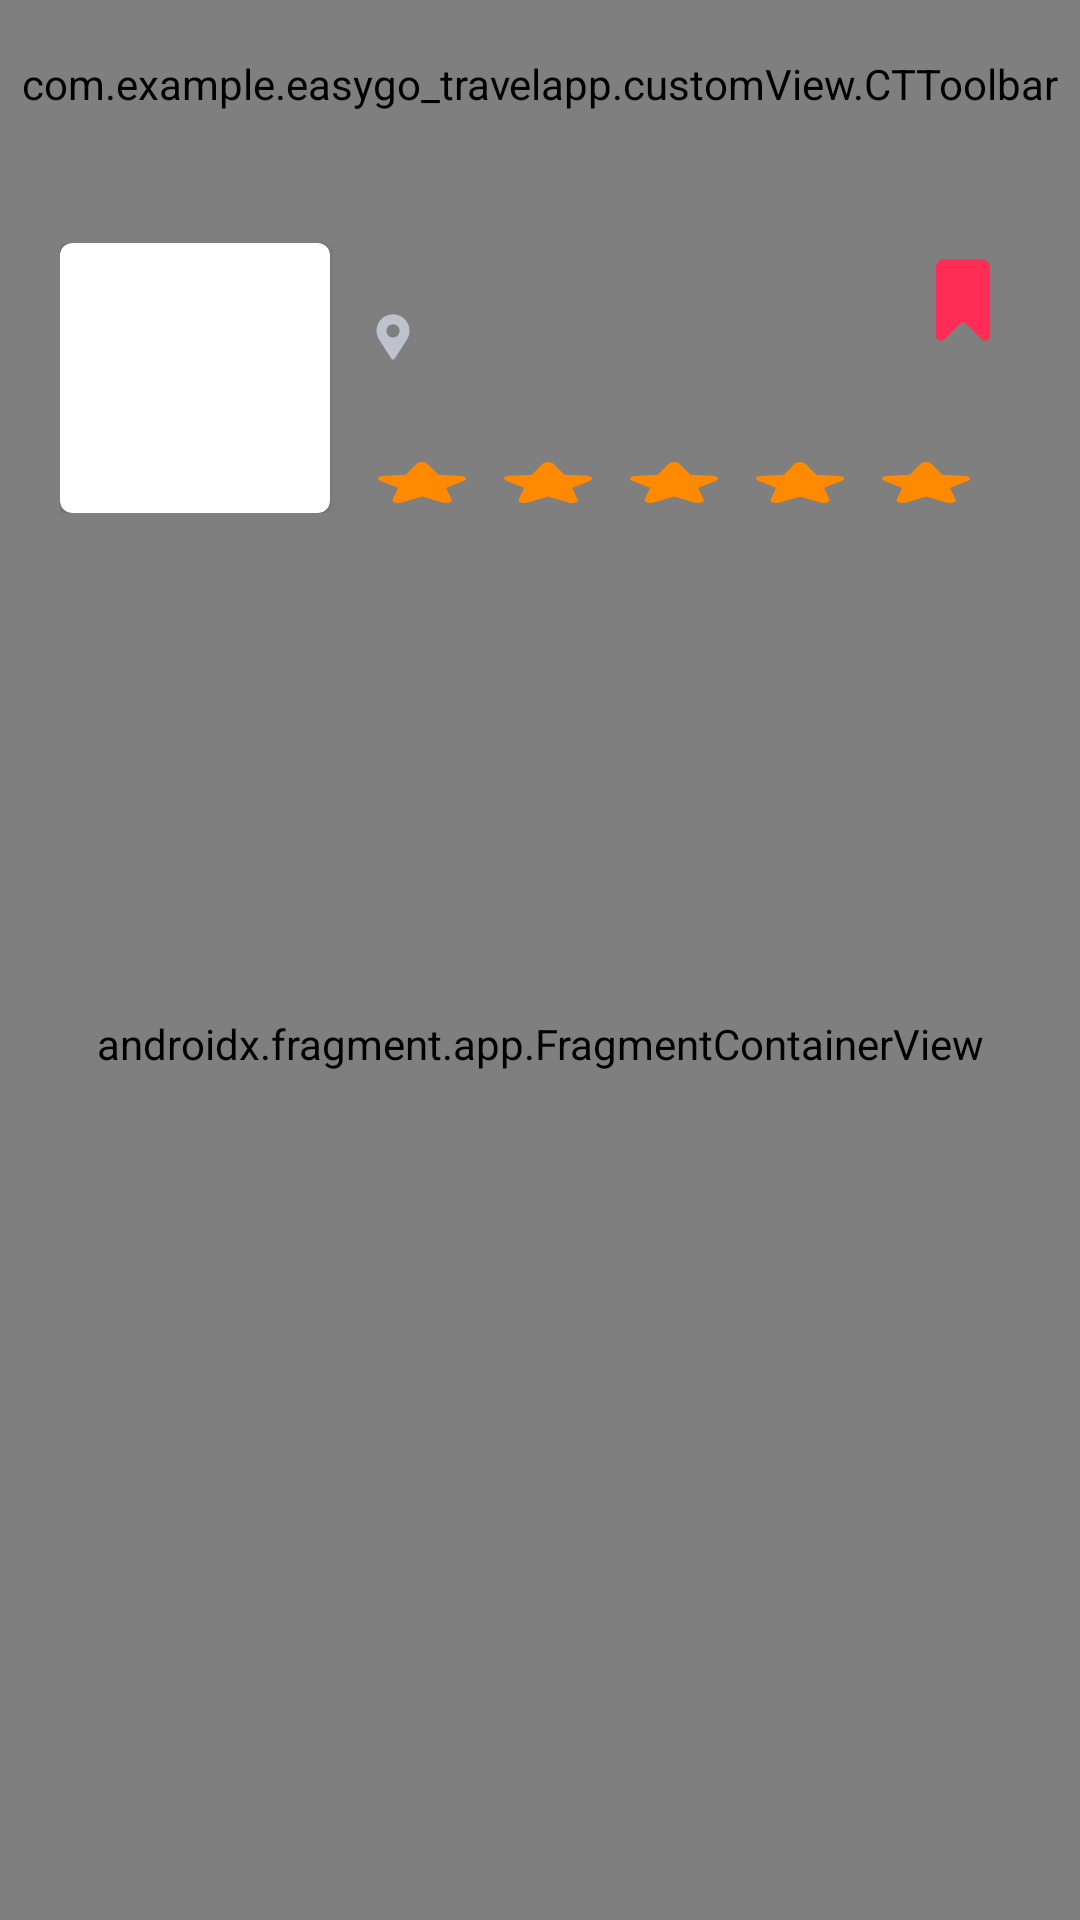

Screen size 1080 × 1920. Icon name, then its center in pixels as (x,y):
bookmark: (963,300)
star: (422,482), (548,482), (674,482), (800,482), (926,482)
